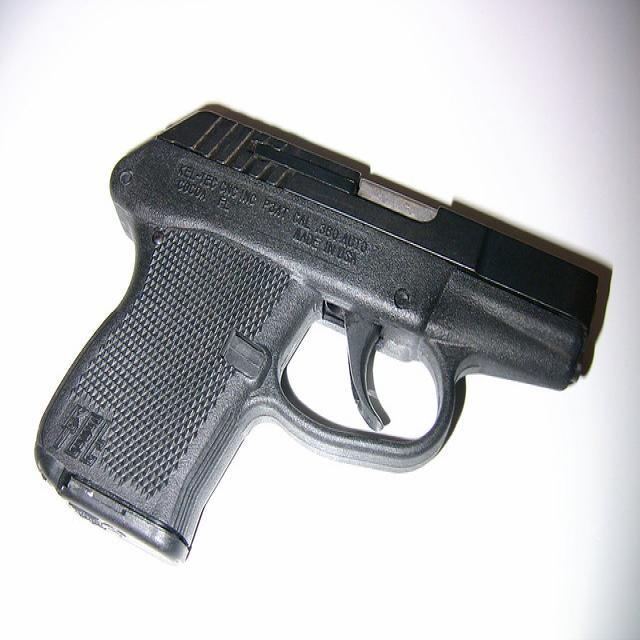Pistol: (38, 91, 629, 583)
